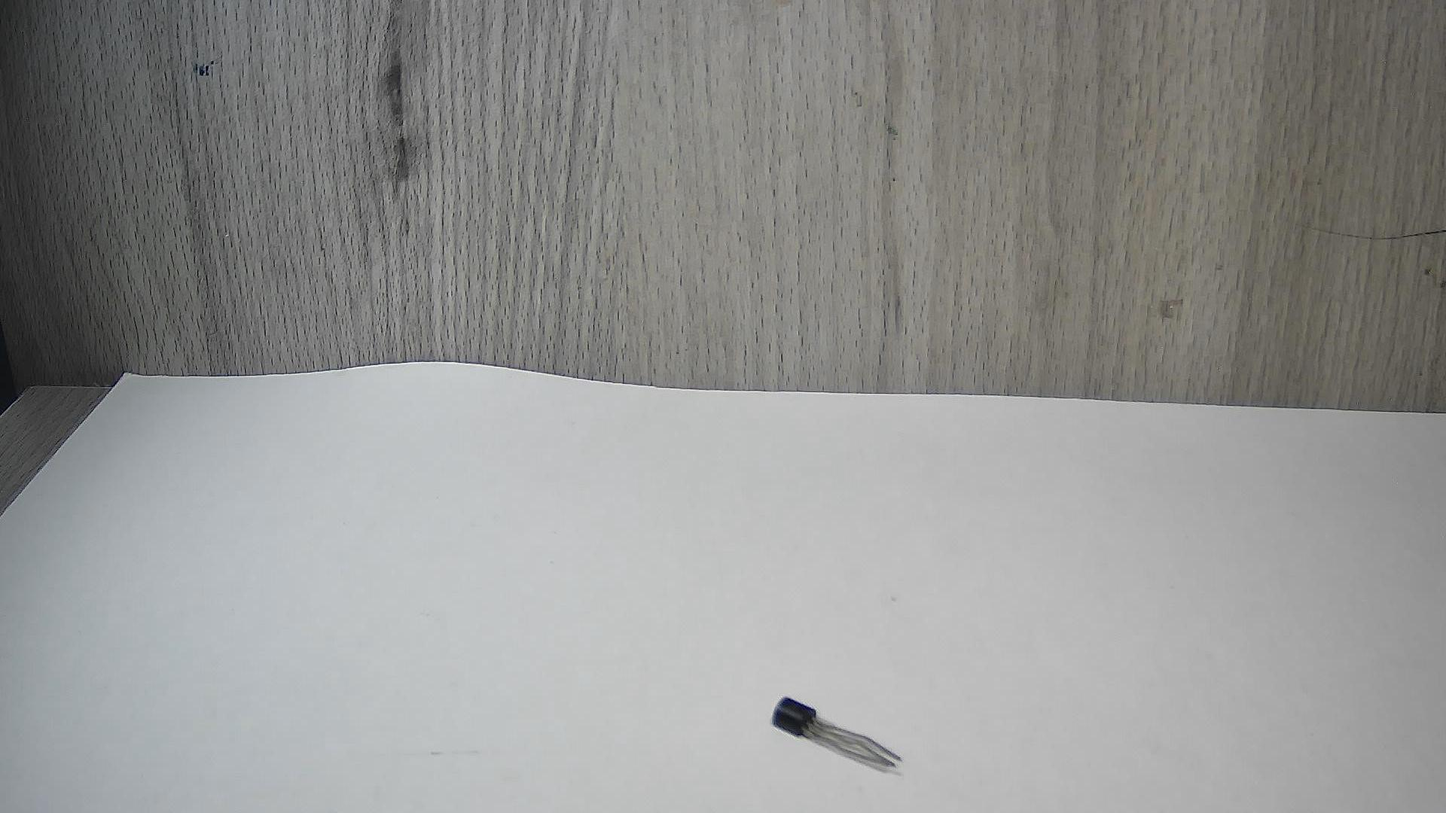Transistor: (746, 660, 944, 798)
